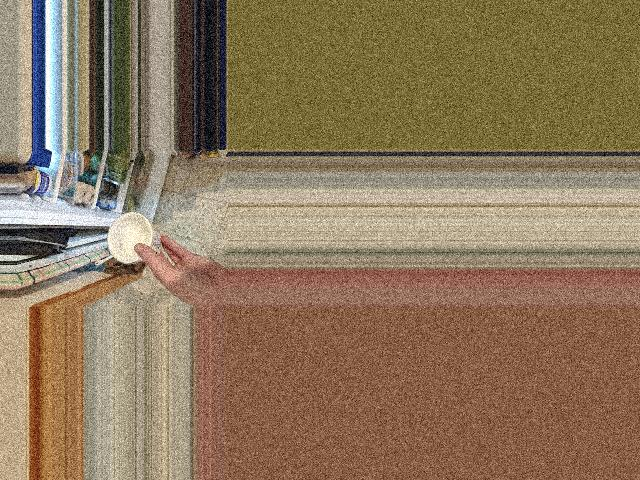cotage: (104, 218, 166, 267)
